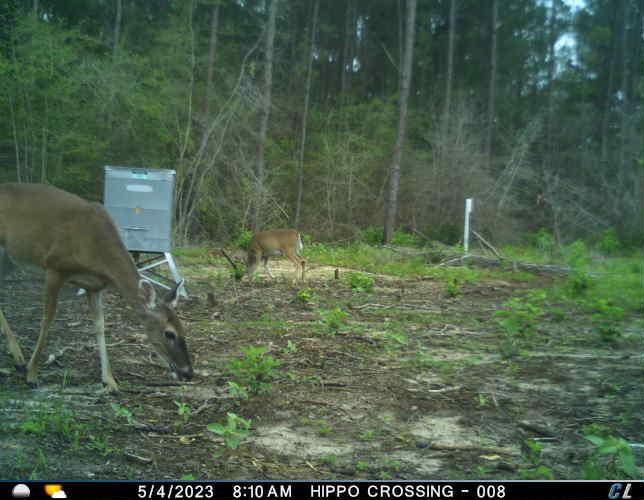Deer: (0, 177, 199, 395), (236, 223, 309, 287)
